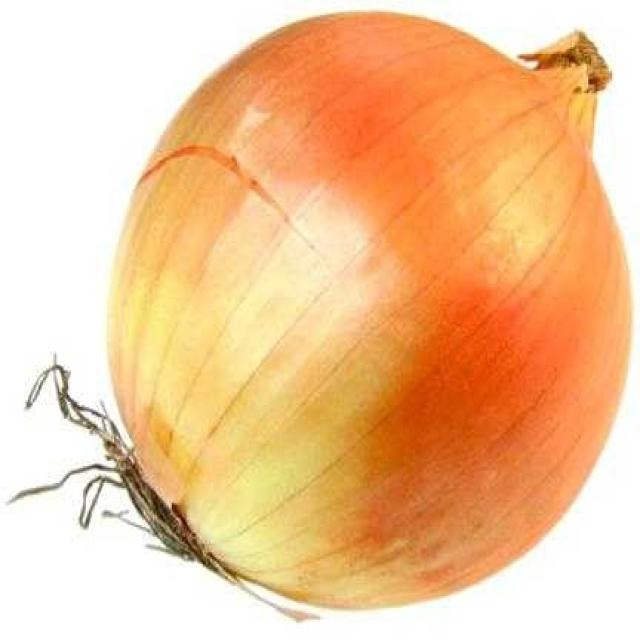onion: (24, 1, 637, 626)
